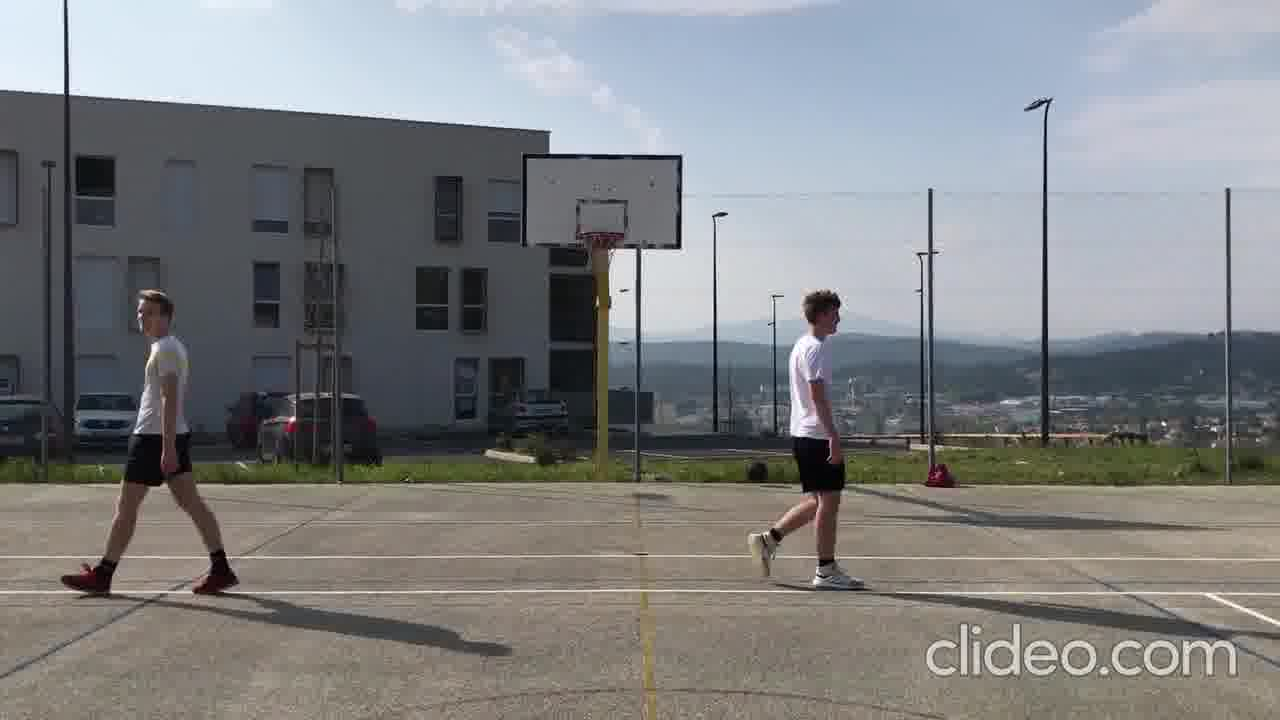jugador: (48, 273, 250, 611)
